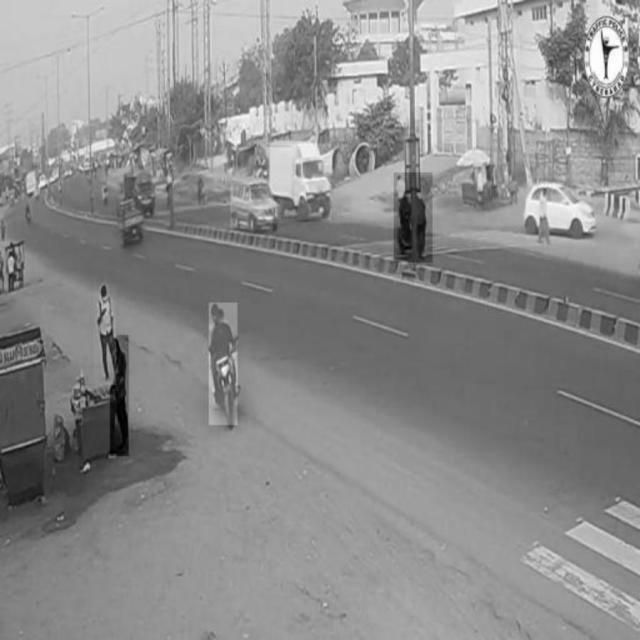accident: (394, 172, 432, 263)
person: (94, 285, 116, 385), (110, 335, 128, 456)
vehicle: (271, 144, 332, 220), (526, 184, 596, 246), (209, 303, 237, 425), (231, 183, 273, 233), (115, 198, 143, 245)
